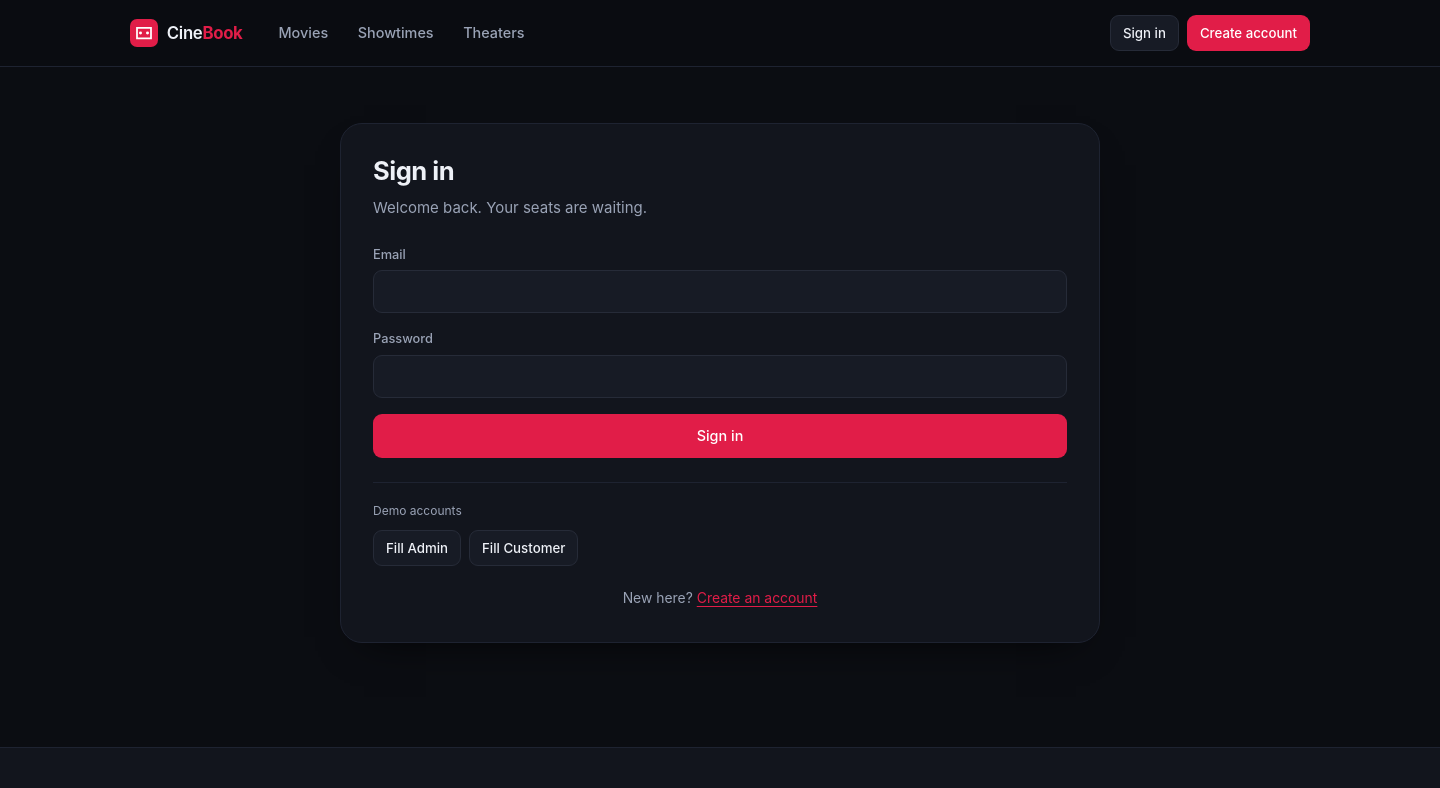
Scenario: authentication › bad credentials surface the API message and keep you signed out
Type "user@cinebook.dev" into the field labelled "Email" at x=720, y=292, box 373,270 -> 1067,313
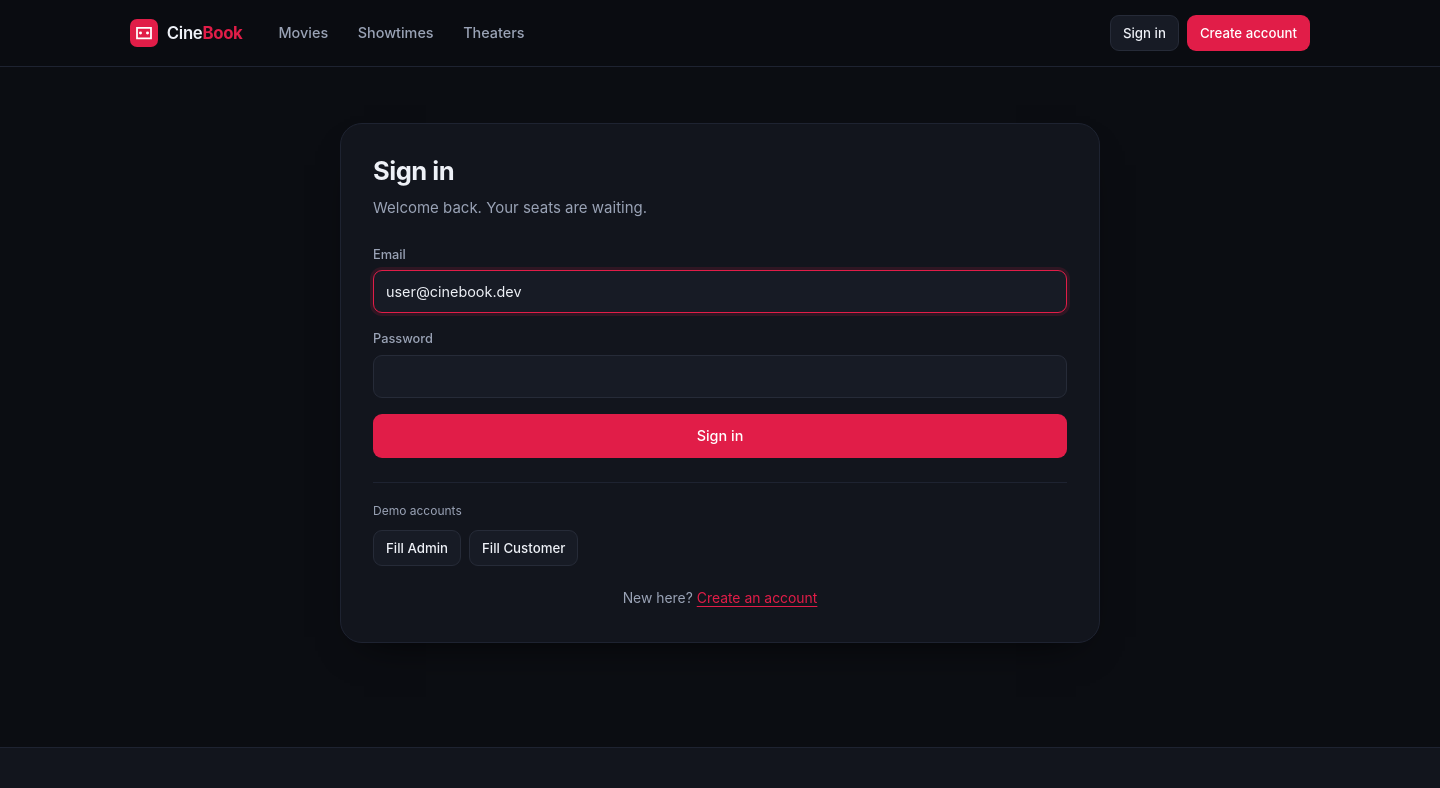
Type "wrong" into the password field labelled "Password" at x=720, y=377, box 373,355 -> 1067,398
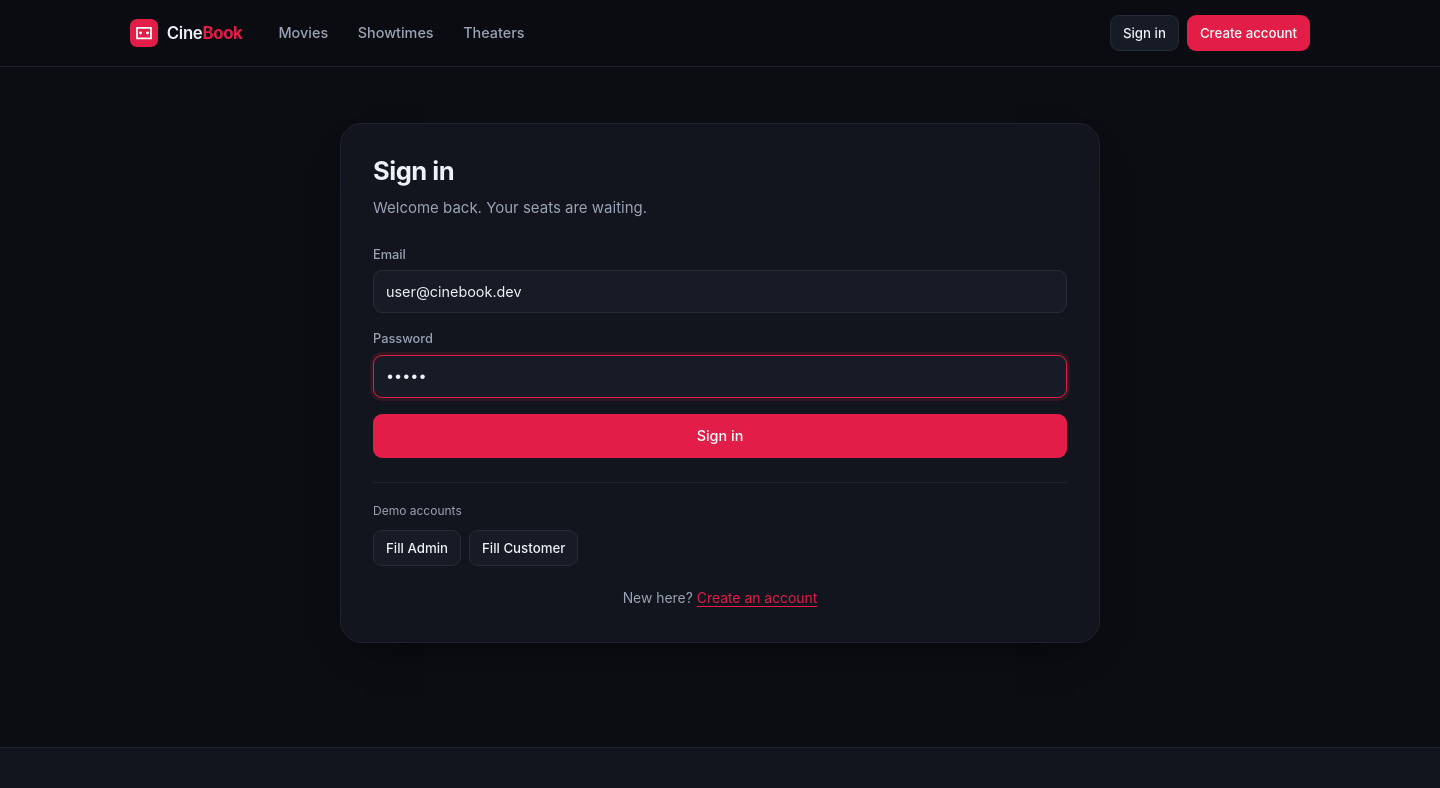
Click the button "Sign in" at x=720, y=436, box 373,414 -> 1067,458
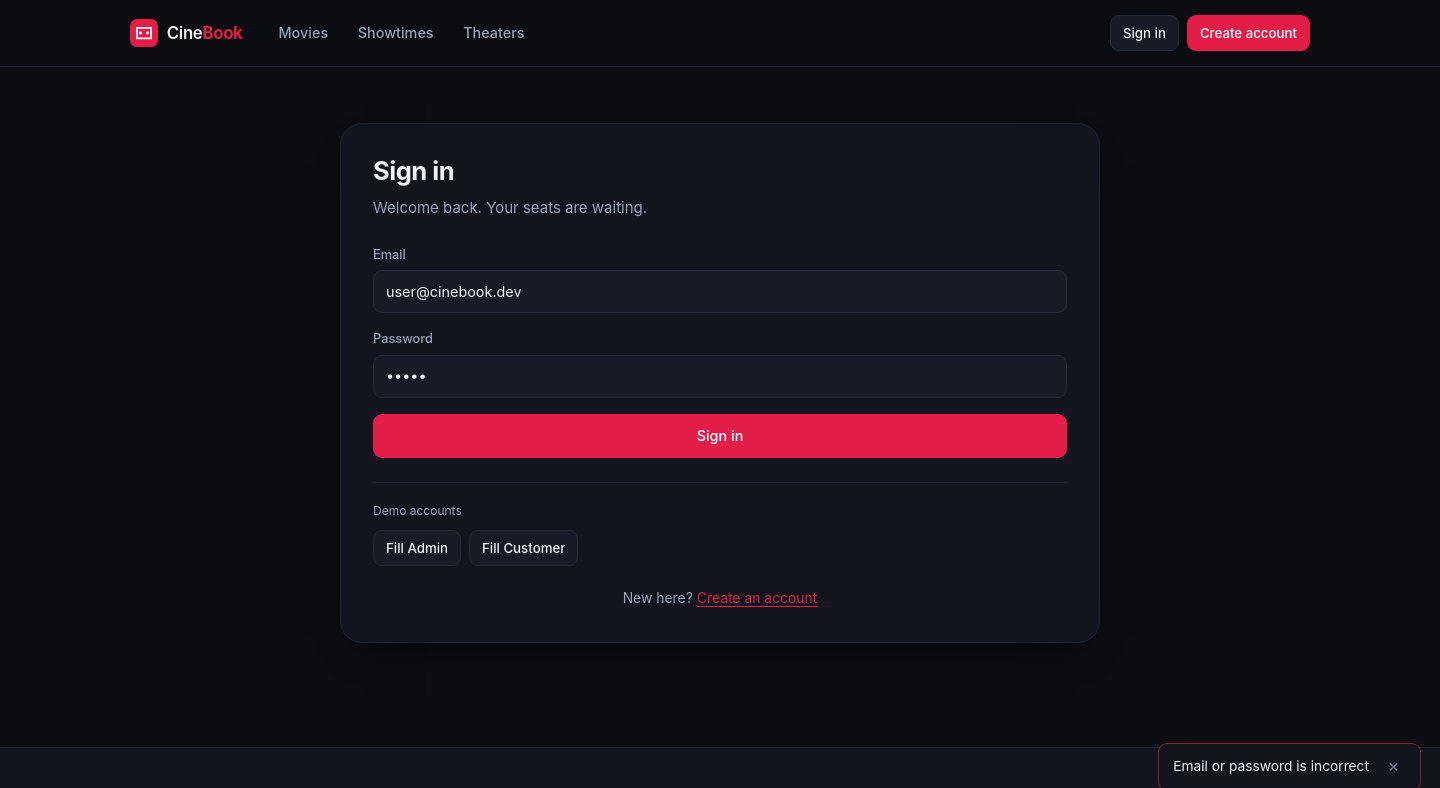
Now the text "Email or password is incorrect" is shown, box 1173,756 -> 1369,778
